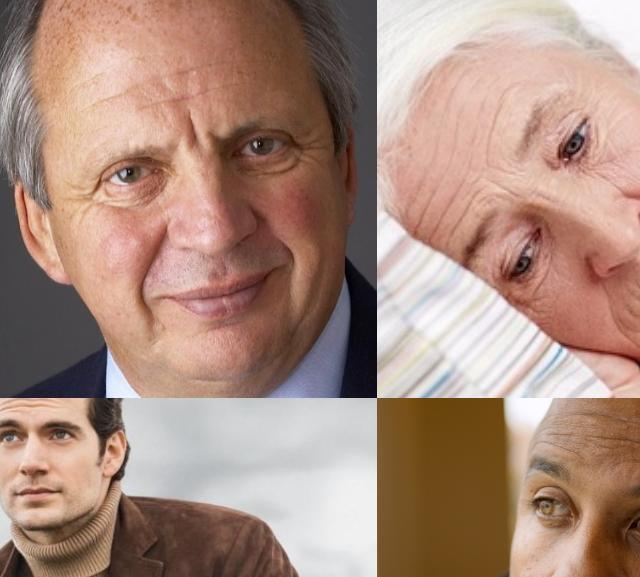crows_feet: (294, 134, 322, 162), (78, 184, 104, 208)
forehead: (453, 78, 507, 150), (415, 181, 471, 233), (595, 429, 640, 458), (538, 428, 580, 459), (156, 86, 207, 102), (96, 86, 128, 102), (26, 398, 60, 410), (0, 398, 22, 410)
frown_line: (487, 175, 525, 201), (184, 112, 204, 148)
gummy_smile: (135, 238, 169, 296), (280, 235, 304, 269)
sad_smile: (607, 317, 640, 353)
smoker_lines: (615, 275, 640, 317)
